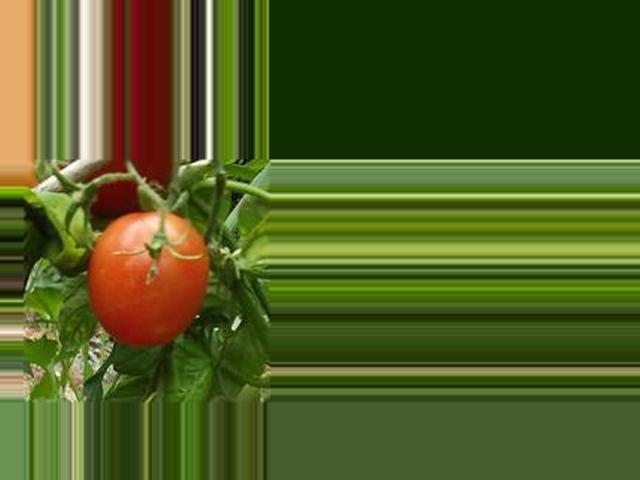tomato: (89, 210, 208, 342)
